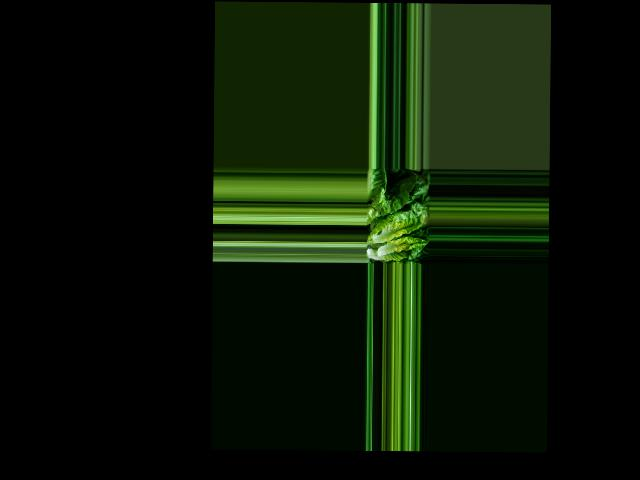lettuce: (365, 200, 425, 262)
